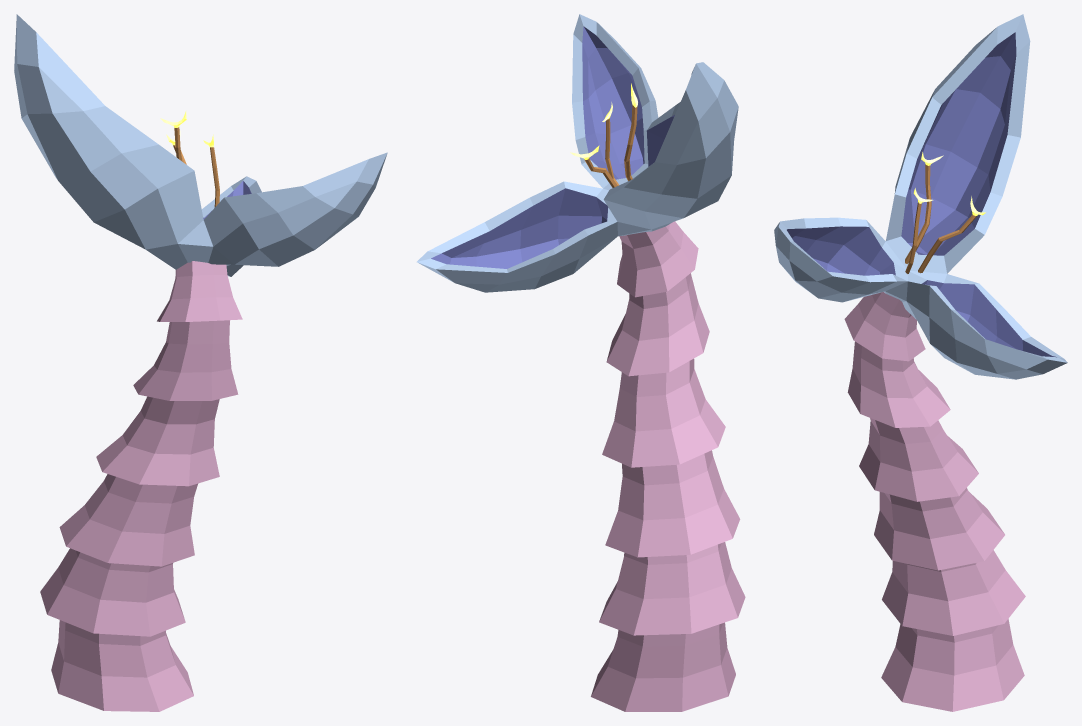
Rendered from Tree_10_Var_02.fbx.
3 views of the same model, side by side, from view 1: azimuth 30°, elevation 25°; view 2: azimuth 150°, elevation 25°; view 3: azimuth 270°, elevation 25° (orthographic). The views are drawn at different scales.
Parts seen in each view (by area): view 1: Tree_10_Var_02; view 2: Tree_10_Var_02; view 3: Tree_10_Var_02.
Boxes of the visible parts, x1=… form: Tree_10_Var_02: x1=14, y1=14, x2=387, y2=711; Tree_10_Var_02: x1=417, y1=14, x2=745, y2=711; Tree_10_Var_02: x1=774, y1=14, x2=1067, y2=711.
Bounding box in the file's own units: 1.63 × 3.9 × 1.63.
